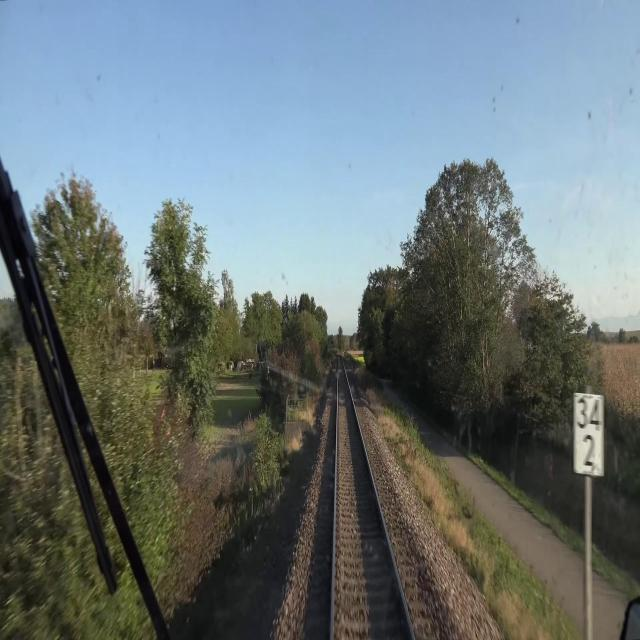rail-track: (335, 360, 410, 639)
